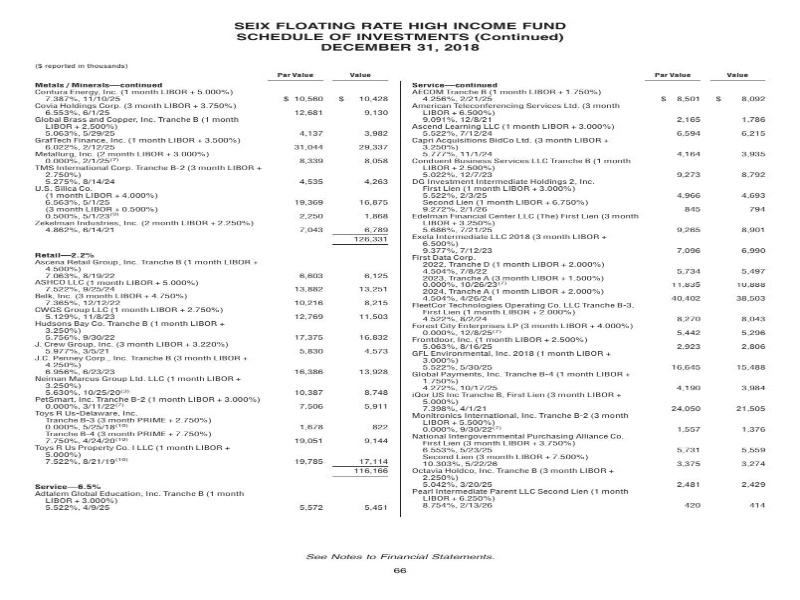table: (20, 57, 409, 529), (394, 63, 788, 523)
